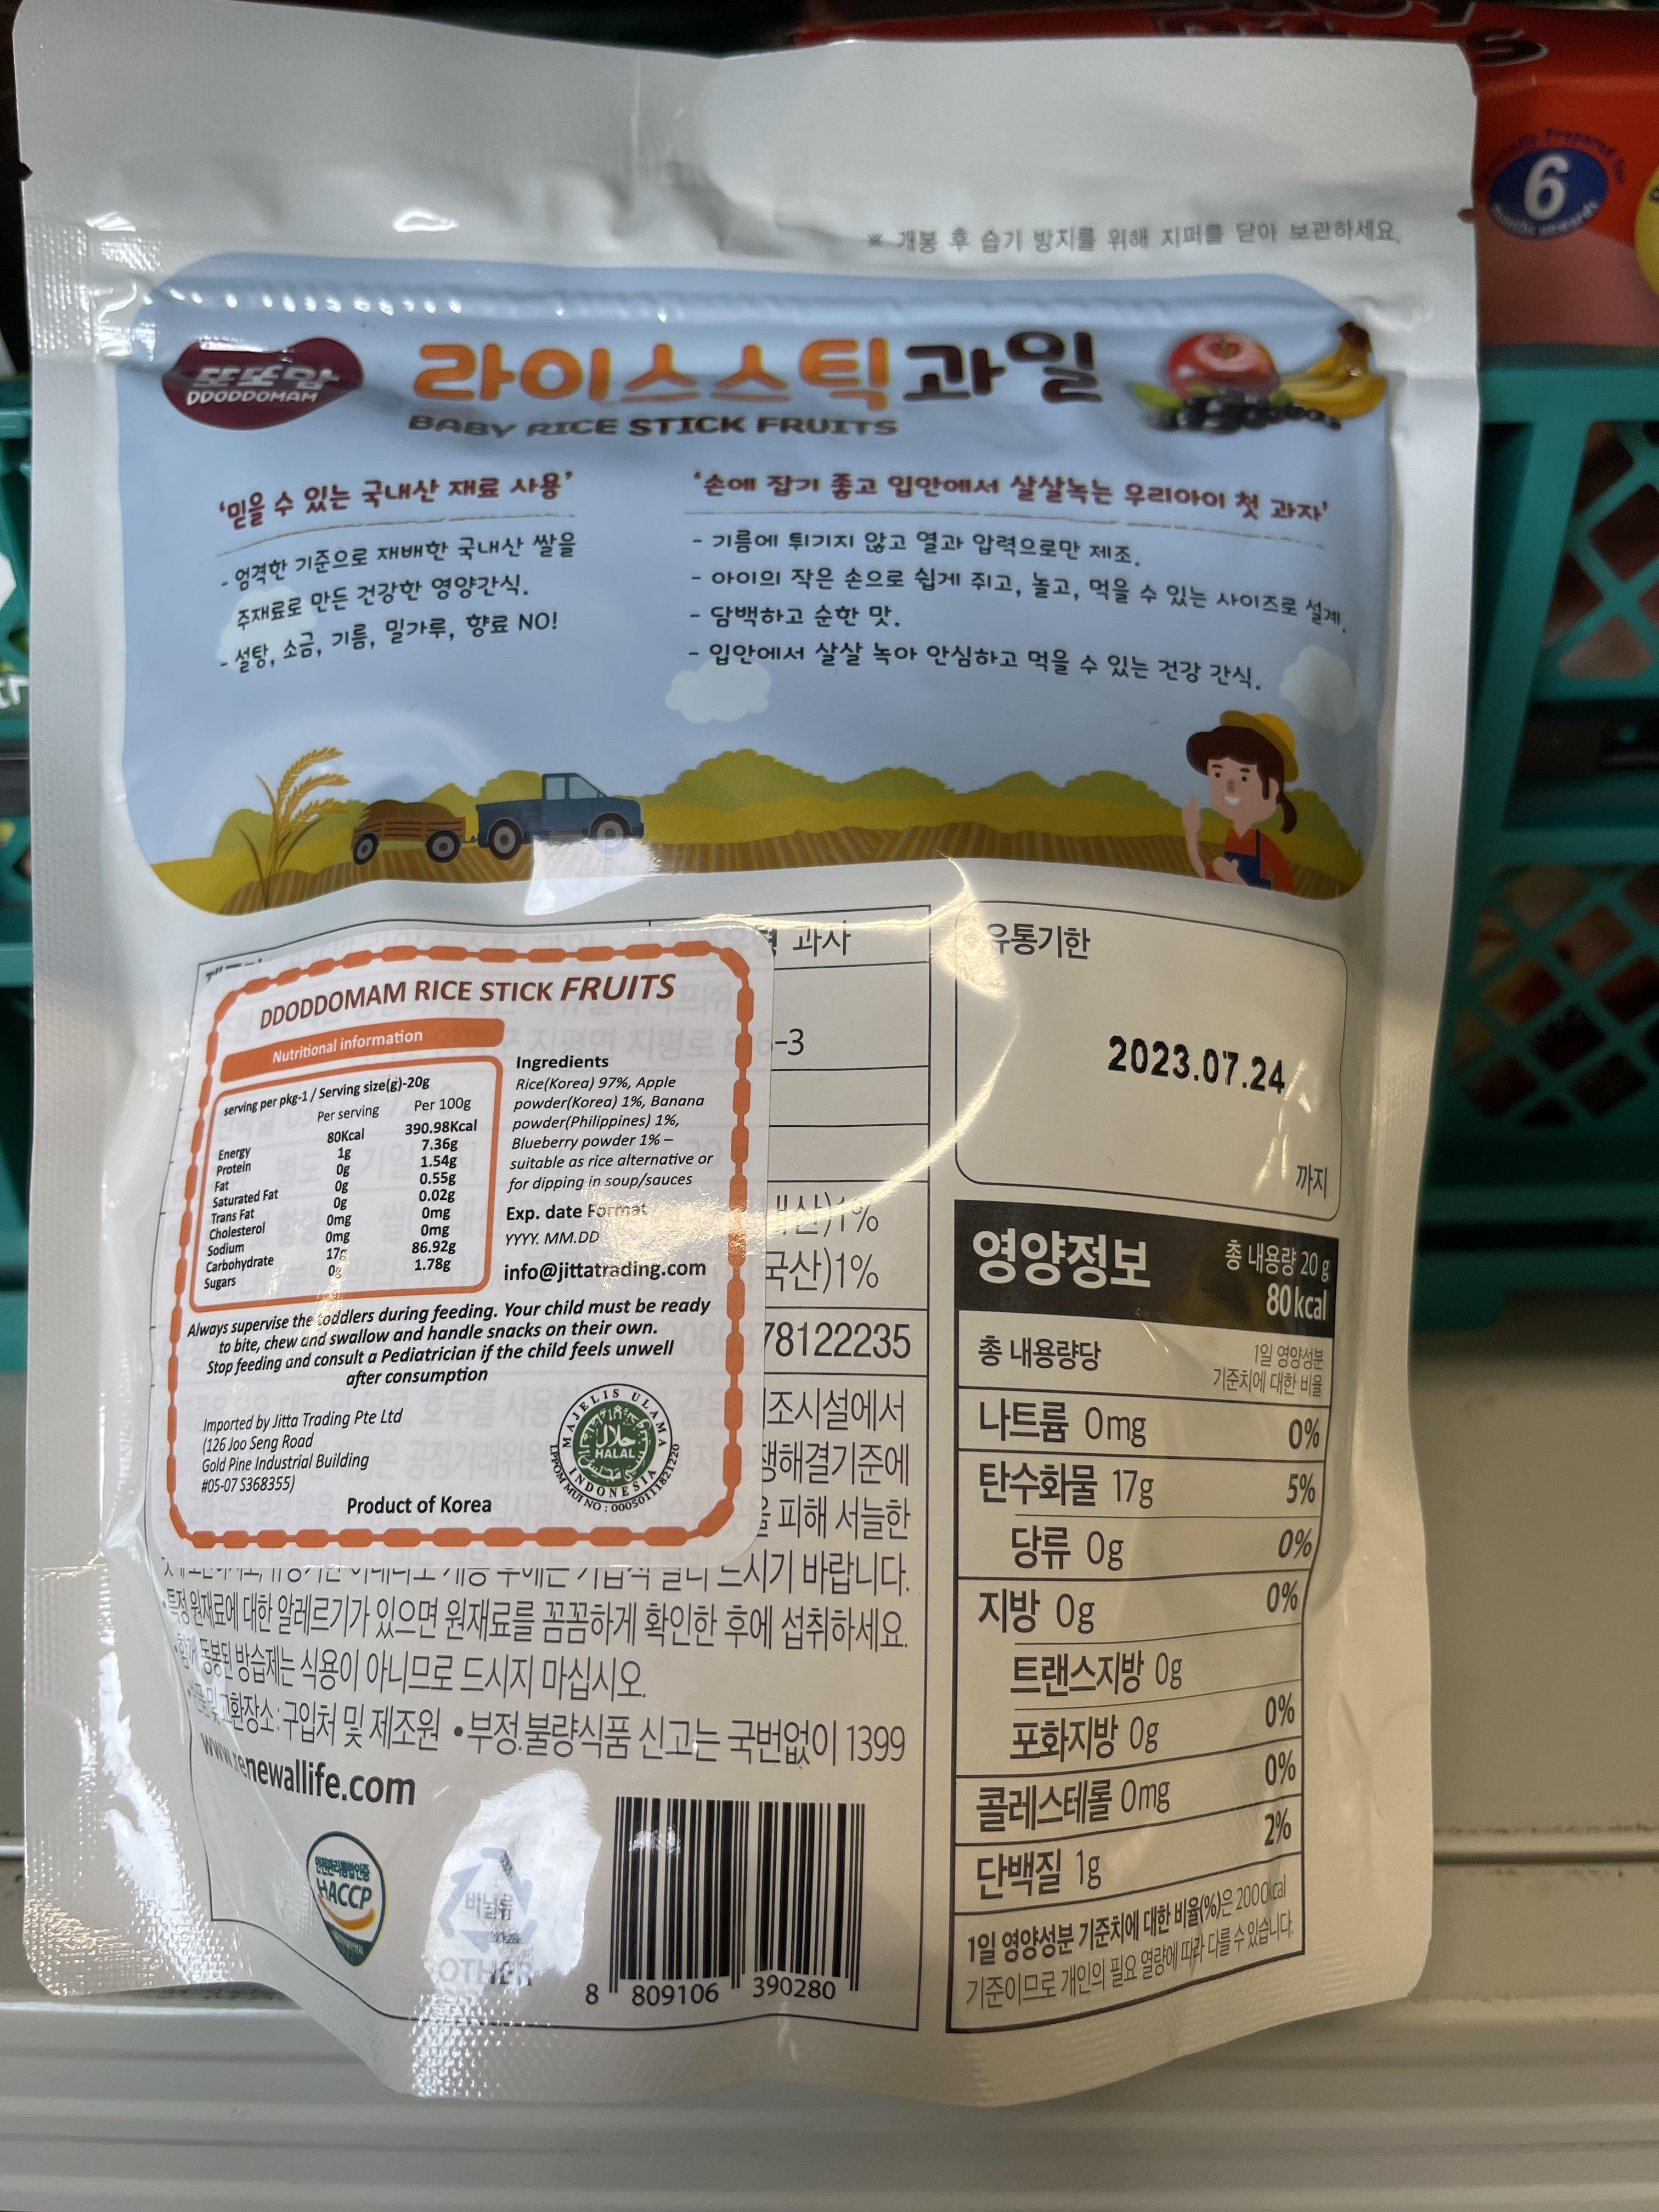object_name: (0, 0, 1410, 2019)
